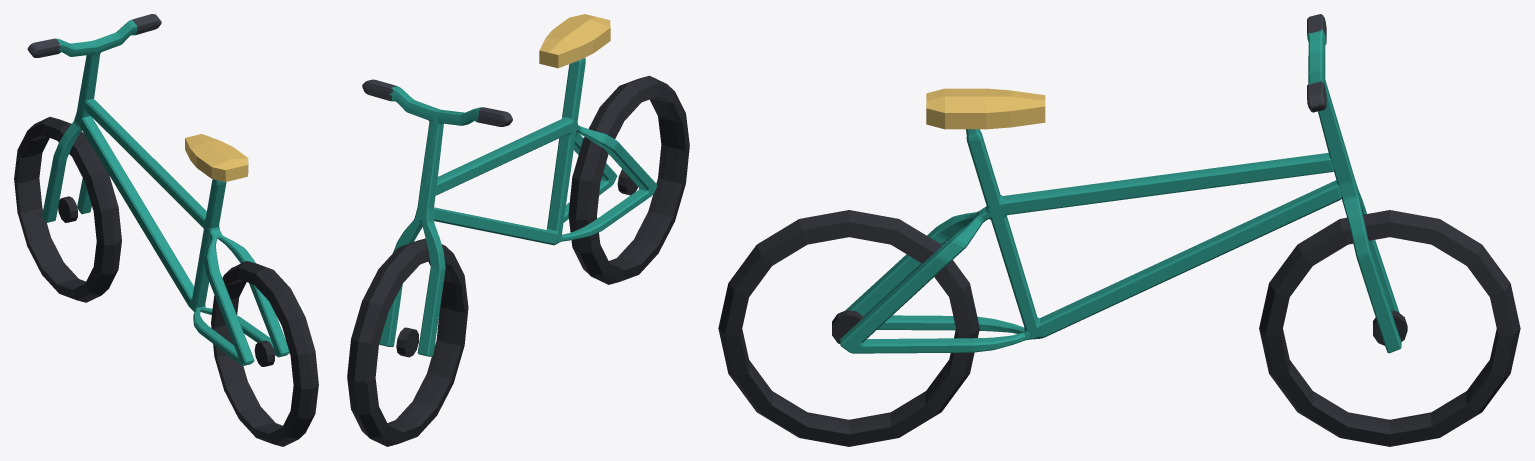
File: bicicleta.glb
3 views of the same model, side by side, from view 1: azimuth 30°, elevation 25°; view 2: azimuth 150°, elevation 25°; view 3: azimuth 270°, elevation 25° (orthographic). The views are drawn at different scales.
Visible parts, largest first — view 1: bicicleta; view 2: bicicleta; view 3: bicicleta.
Boxes of the visible parts, left/top/right/bottom form: bicicleta: left=14, top=14, right=318, bottom=446; bicicleta: left=347, top=14, right=689, bottom=446; bicicleta: left=718, top=14, right=1520, bottom=446.
Size of the model in its own units: 0.3588 by 0.7564 by 1.4.
